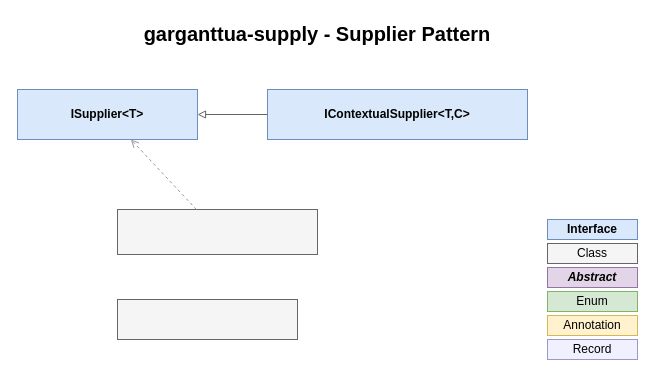
Image size: 655x377. Some labels were removed from this diagram. Each missing label, with the centre of its shape:
"Supplier (utility)" belongs at [217,231].
"SupplyException" belongs at [207,319].
